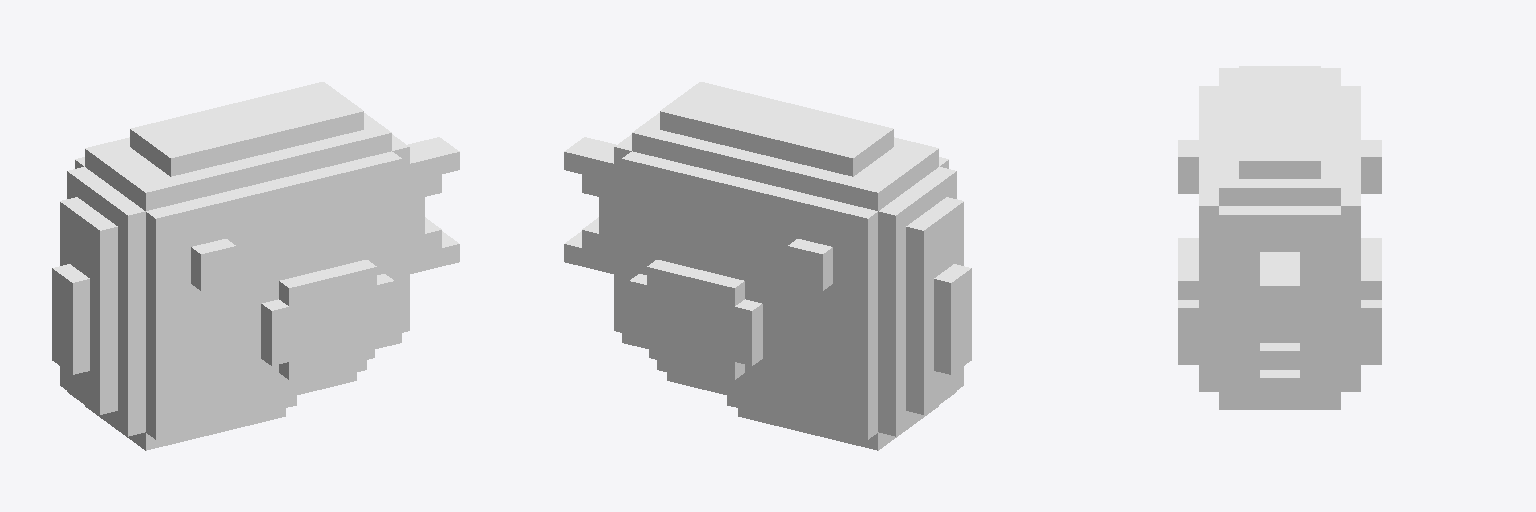
Rendered from obj.fish.obj.
3 views of the same model, side by side, from view 1: azimuth 30°, elevation 25°; view 2: azimuth 150°, elevation 25°; view 3: azimuth 270°, elevation 25° (orthographic).
Parts seen in each view (by area): view 1: object 1; view 2: object 1; view 3: object 1.
Boxes of the visible parts, x1,y1,x2,y2 form: object 1: [52, 82, 459, 450]; object 1: [564, 82, 971, 450]; object 1: [1178, 66, 1381, 409].
Bounding box in the file's own units: 2.2 × 1.5 × 1.